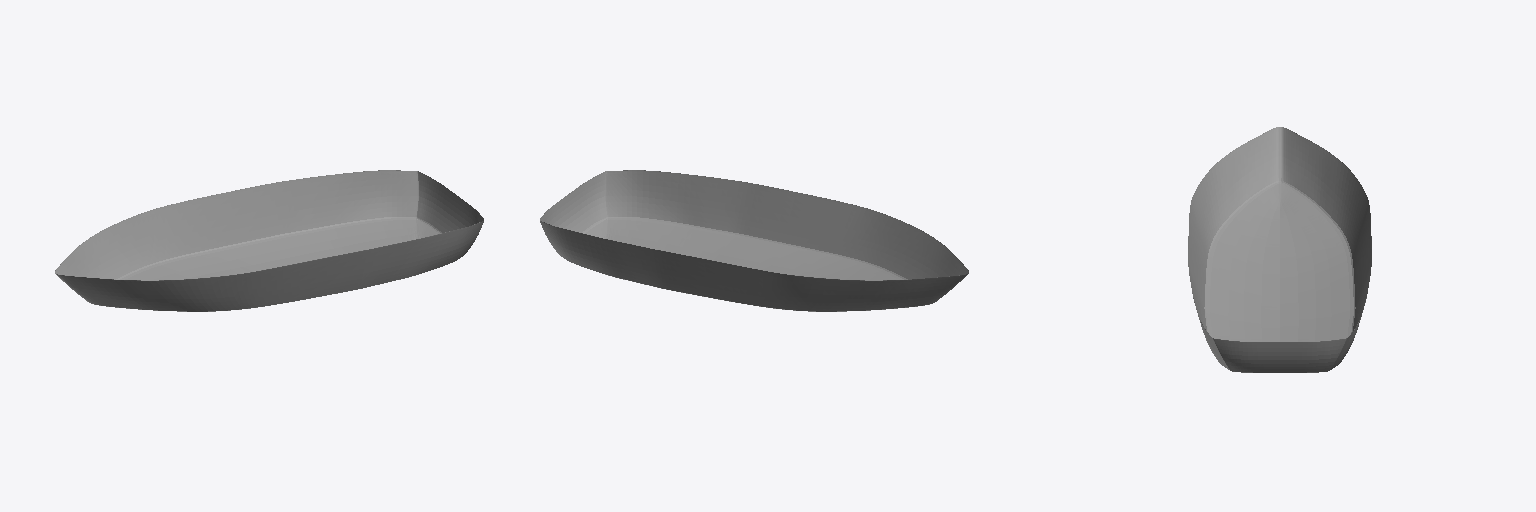
Rendered from boat02.obj.
3 views of the same model, side by side, from view 1: azimuth 30°, elevation 25°; view 2: azimuth 150°, elevation 25°; view 3: azimuth 270°, elevation 25° (orthographic).
Visible parts, largest first — view 1: arch48_015_obj_01; view 2: arch48_015_obj_01; view 3: arch48_015_obj_01.
Boxes of the visible parts, x1=… form: arch48_015_obj_01: x1=55, y1=170, x2=483, y2=311; arch48_015_obj_01: x1=540, y1=170, x2=968, y2=311; arch48_015_obj_01: x1=1188, y1=127, x2=1371, y2=372.
Size of the model in its own units: 11.12 by 1.67 by 4.4.